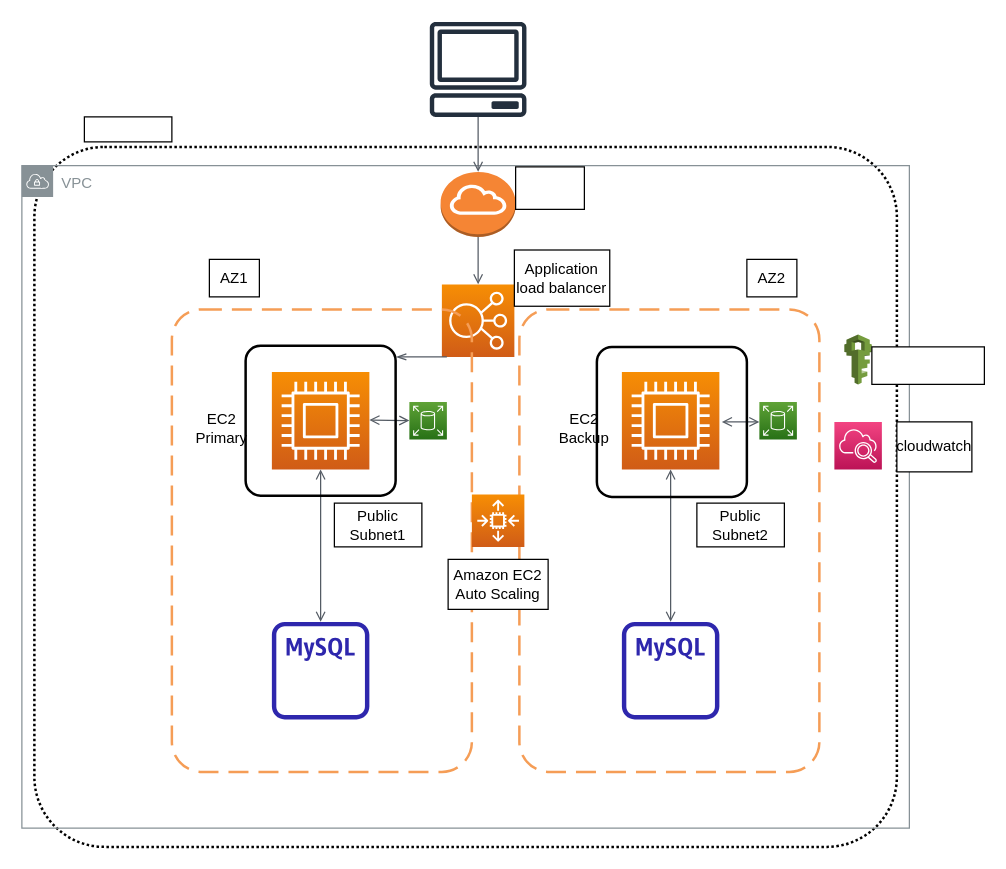
The diagram is 1006 pixels wide and 869 high, and some of its shapes have lost their labels. Each missing label, with the box of its shape:
AWS IAM Roles: (871, 346, 984, 384)
internet Gateway: (514, 166, 584, 209)
Region: (83, 116, 172, 142)
